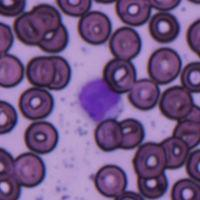L: (75, 76, 123, 124)
